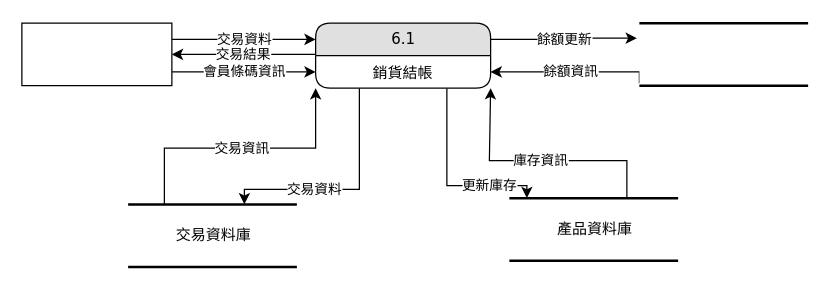
This 831x289 diagram has some shape labels left out. The box of each missing label's shape, as (x1, y1, x2, y2) in pixels:
會員資料庫: (638, 21, 809, 86)
溫室管理者: (21, 22, 172, 86)
